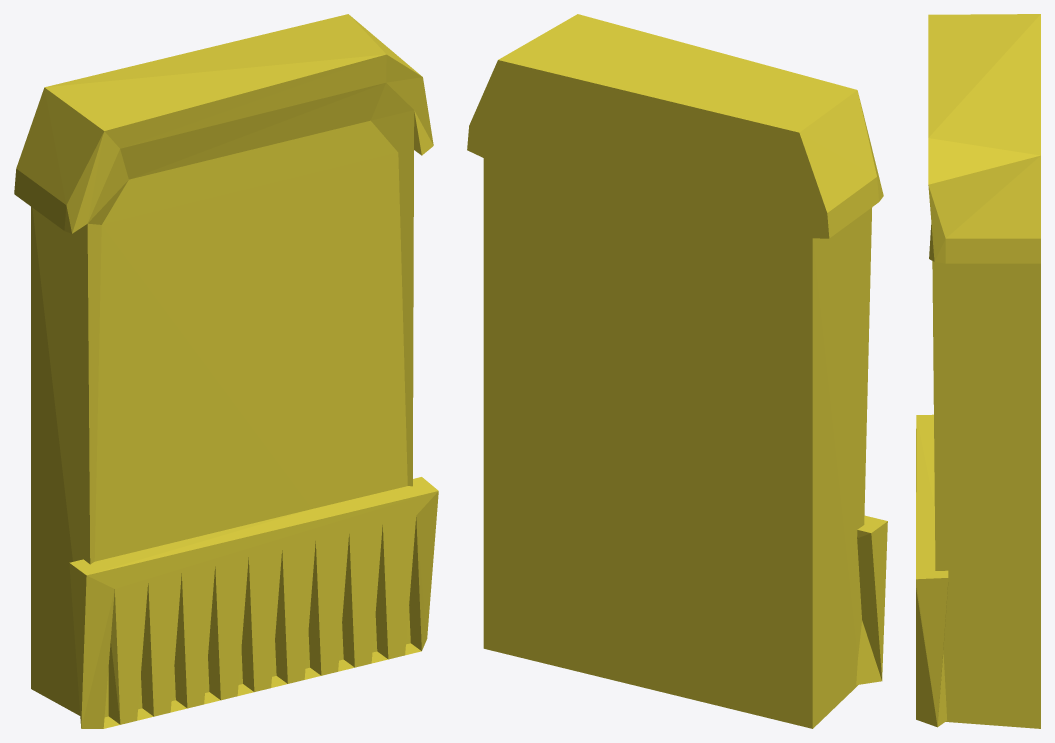
Rendered from JanelaComGrade.Low.fbx.
3 views of the same model, side by side, from view 1: azimuth 30°, elevation 25°; view 2: azimuth 150°, elevation 25°; view 3: azimuth 270°, elevation 25° (orthographic). The views are drawn at different scales.
Visible parts, largest first — view 1: JanelaComGrade.Low; view 2: JanelaComGrade.Low; view 3: JanelaComGrade.Low.
Boxes of the visible parts, left/top/right/bottom form: JanelaComGrade.Low: left=14, top=14, right=438, bottom=728; JanelaComGrade.Low: left=467, top=14, right=887, bottom=728; JanelaComGrade.Low: left=916, top=14, right=1040, bottom=728.
Bounding box in the file's own units: 93.86 × 149 × 29.31.
